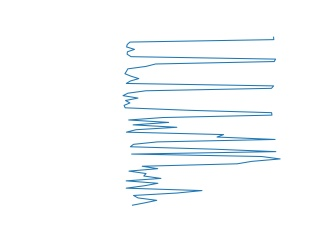crevasseRiverChannelBar: (122, 161, 281, 206)
majorRiverBedLagDeposit: (124, 119, 285, 164)
majorRiverChannelBar: (119, 35, 280, 118)
